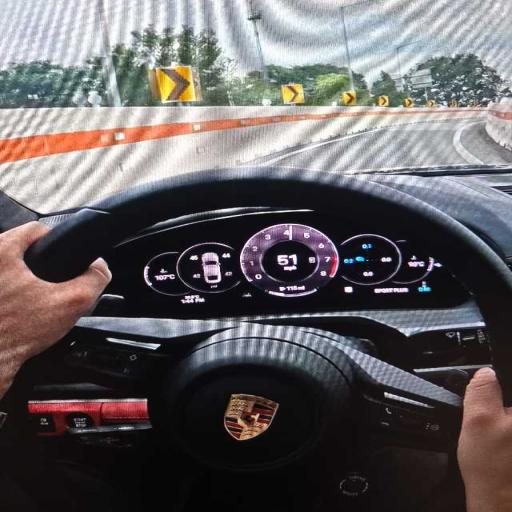car: (0, 0, 511, 511)
lane: (259, 120, 511, 172)
person: (0, 223, 111, 397)
